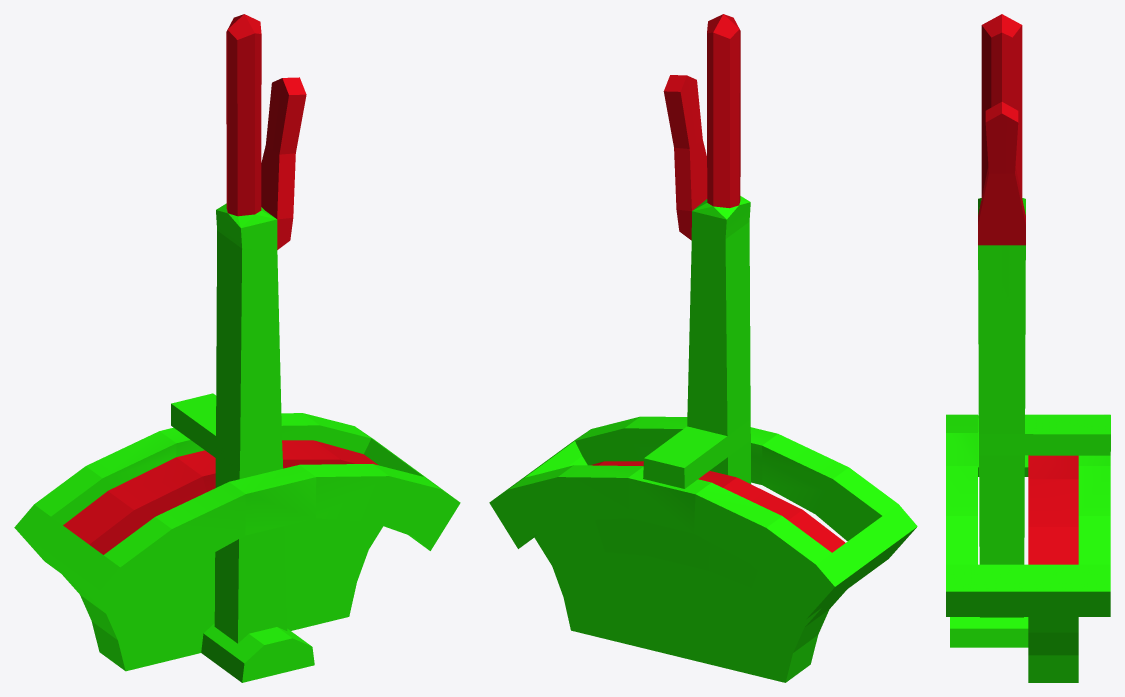
The model's file is speed-lever.fbx.
The picture shows the model from 3 angles, left to right: view 1: azimuth 30°, elevation 25°; view 2: azimuth 150°, elevation 25°; view 3: azimuth 270°, elevation 25°; orthographic projection. The views are drawn at different scales.
Visible parts, largest first — view 1: speed.lever.base, speed.lever.lever; view 2: speed.lever.base, speed.lever.lever; view 3: speed.lever.base, speed.lever.lever.
Part boxes in pixels (x1=…): speed.lever.base: x1=14, y1=413, x2=460, y2=682; speed.lever.lever: x1=171, y1=14, x2=306, y2=643; speed.lever.base: x1=489, y1=416, x2=917, y2=682; speed.lever.lever: x1=643, y1=14, x2=750, y2=488; speed.lever.base: x1=946, y1=414, x2=1110, y2=682; speed.lever.lever: x1=978, y1=14, x2=1110, y2=617.
Size of the model in its own units: 34.08 by 140 by 82.17.
